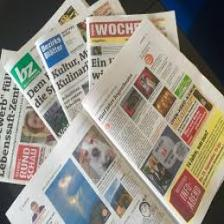paper: (0, 18, 213, 224)
